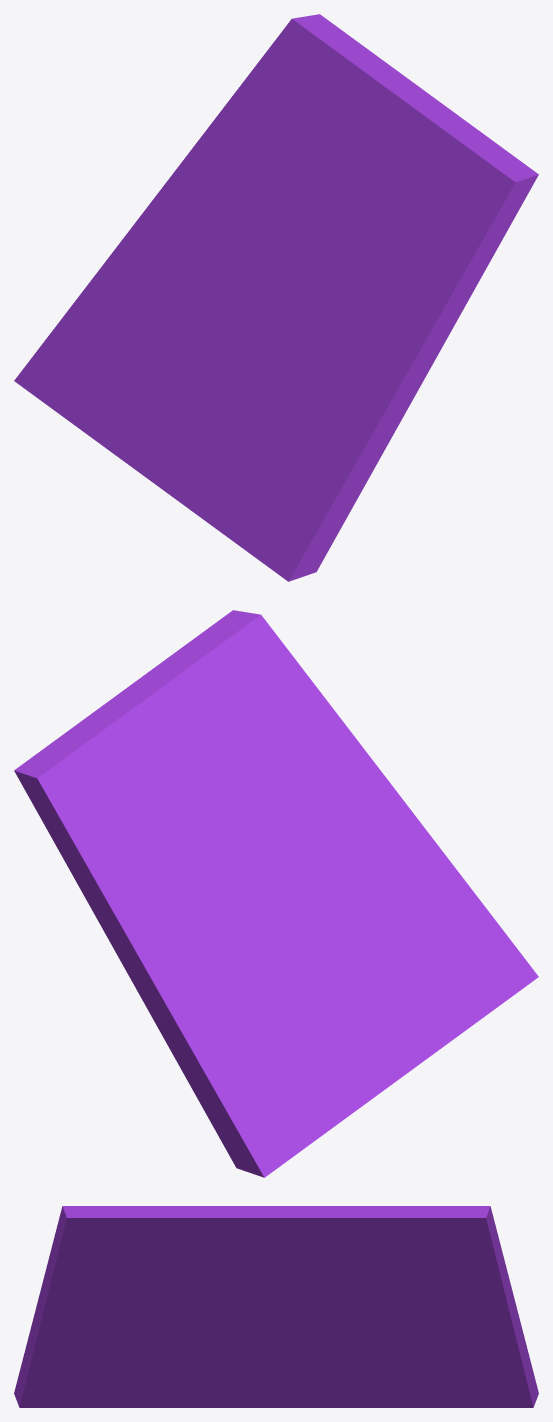
File: Window_61_chunks.fbx
3 renders of one model, top to bottom at view 1: azimuth 30°, elevation 25°; view 2: azimuth 150°, elevation 25°; view 3: azimuth 270°, elevation 25°, orthographic. The views are drawn at different scales.
Visible parts, largest first — view 1: Window_61_5, Window_61_6, Window_61_1, Window_61_8, Window_61_3, Window_61_17, Window_61_19, Window_61_11, Window_61_21, Window_61_2, Window_61_14, Window_61_24 (+8 smaller); view 2: Window_61_5, Window_61_6, Window_61_1, Window_61_8, Window_61_3, Window_61_21, Window_61_11, Window_61_17, Window_61_19, Window_61_2, Window_61_14, Window_61_24 (+8 smaller); view 3: Window_61_5, Window_61_6, Window_61_1, Window_61_8, Window_61_19, Window_61_4, Window_61_11, Window_61_21, Window_61_2, Window_61_10, Window_61_3, Window_61_12 (+10 smaller).
Boxes of the visible parts, x1=… form: Window_61_5: x1=344, y1=119, x2=538, y2=327; Window_61_6: x1=173, y1=14, x2=393, y2=173; Window_61_1: x1=14, y1=235, x2=195, y2=412; Window_61_8: x1=295, y1=69, x2=462, y2=263; Window_61_3: x1=254, y1=299, x2=358, y2=552; Window_61_17: x1=254, y1=425, x2=387, y2=581; Window_61_19: x1=324, y1=313, x2=460, y2=444; Window_61_11: x1=176, y1=399, x2=270, y2=556; Window_61_21: x1=125, y1=171, x2=279, y2=253; Window_61_2: x1=187, y1=258, x2=281, y2=353; Window_61_14: x1=80, y1=409, x2=184, y2=498; Window_61_24: x1=246, y1=170, x2=303, y2=285; Window_61_5: x1=158, y1=610, x2=353, y2=823; Window_61_6: x1=14, y1=716, x2=173, y2=964; Window_61_1: x1=153, y1=957, x2=307, y2=1177; Window_61_8: x1=89, y1=665, x2=259, y2=851; Window_61_3: x1=284, y1=819, x2=501, y2=1000; Window_61_21: x1=123, y1=843, x2=212, y2=1018; Window_61_11: x1=365, y1=932, x2=504, y2=1059; Window_61_17: x1=417, y1=835, x2=538, y2=1001; Window_61_19: x1=336, y1=736, x2=429, y2=884; Window_61_2: x1=218, y1=881, x2=328, y2=990; Window_61_14: x1=329, y1=1033, x2=424, y2=1128; Window_61_24: x1=169, y1=828, x2=272, y2=897; Window_61_5: x1=46, y1=1206, x2=243, y2=1308; Window_61_6: x1=343, y1=1206, x2=511, y2=1310; Window_61_1: x1=342, y1=1319, x2=538, y2=1407; Window_61_8: x1=211, y1=1206, x2=352, y2=1296; Window_61_19: x1=33, y1=1269, x2=154, y2=1355; Window_61_4: x1=146, y1=1267, x2=264, y2=1338; Window_61_11: x1=95, y1=1358, x2=250, y2=1407; Window_61_21: x1=389, y1=1287, x2=519, y2=1336; Window_61_2: x1=239, y1=1319, x2=399, y2=1355; Window_61_10: x1=245, y1=1357, x2=347, y2=1405; Window_61_3: x1=115, y1=1324, x2=230, y2=1397; Window_61_12: x1=194, y1=1335, x2=342, y2=1374.
Bounding box in the file's own units: 756 × 829 × 1292.
